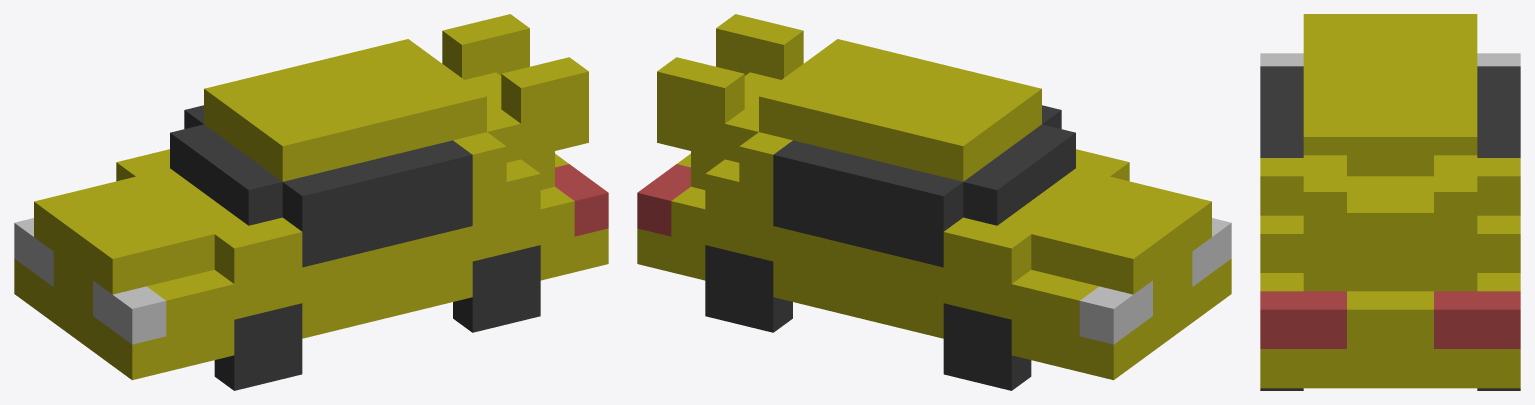
The model's file is racer-v5-yellow.gltf.
3 renders of one model, left to right at view 1: azimuth 30°, elevation 25°; view 2: azimuth 150°, elevation 25°; view 3: azimuth 270°, elevation 25°, orthographic. The views are drawn at different scales.
Visible parts, largest first — view 1: model, wheels; view 2: model, wheels; view 3: model, wheels.
Part boxes in pixels (x1=…): model: x1=14, y1=14, x2=608, y2=380; wheels: x1=214, y1=245, x2=540, y2=390; model: x1=637, y1=14, x2=1231, y2=380; wheels: x1=705, y1=245, x2=1031, y2=390; model: x1=1260, y1=14, x2=1520, y2=388; wheels: x1=1260, y1=388, x2=1520, y2=390.
Bounding box in the file's own units: 1.4 × 0.6 × 0.6.
2 materials, 2 textured.
